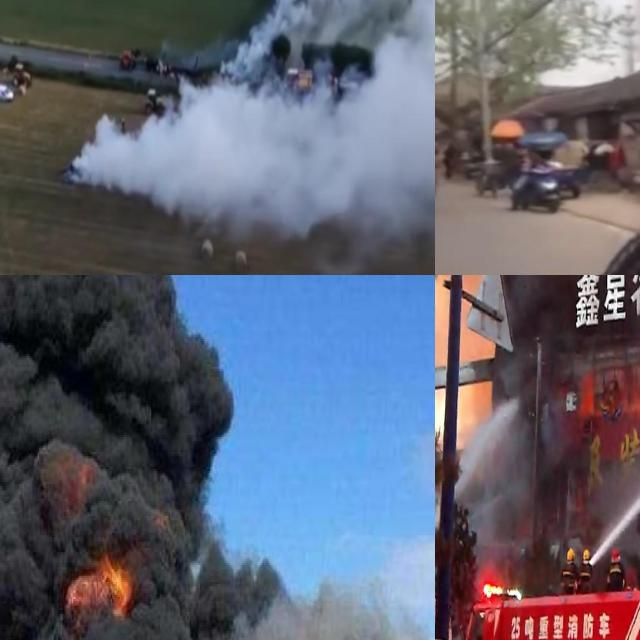smoke: (0, 275, 417, 640), (68, 0, 435, 257), (460, 401, 534, 552)
